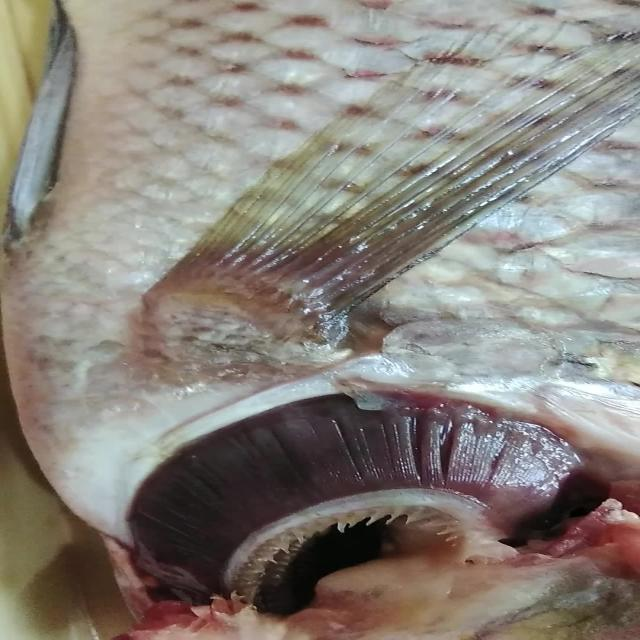Non-Fresh: (140, 394, 573, 586)
